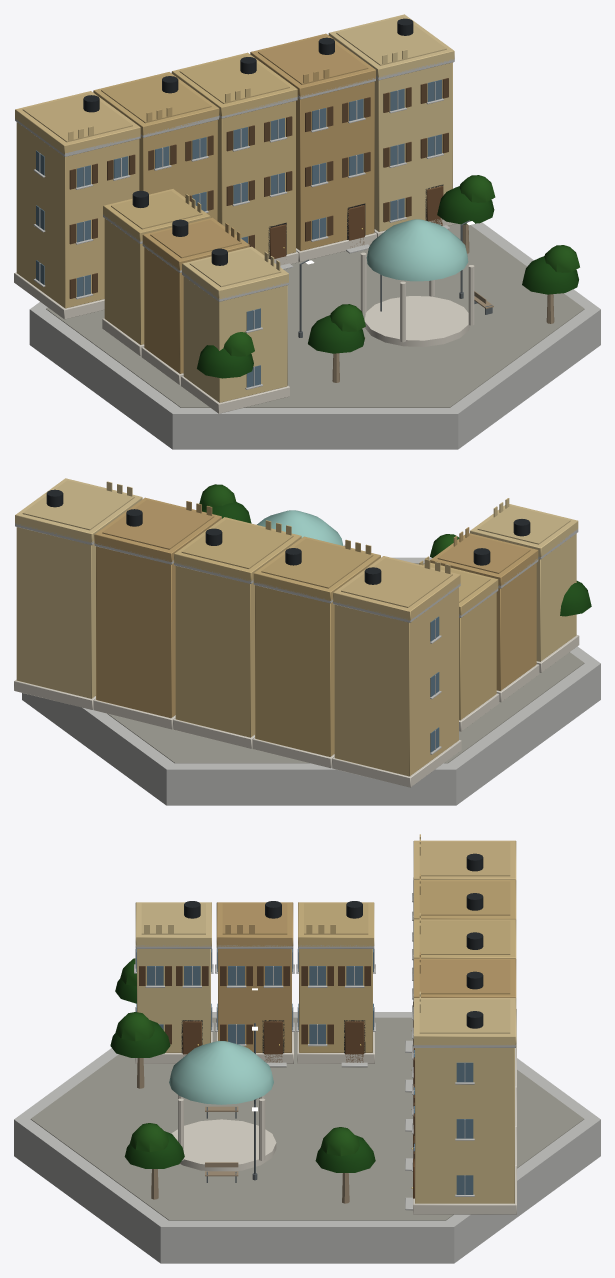
Rendered from residential_arab.glb.
The picture shows the model from 3 angles, top to bottom: view 1: azimuth 30°, elevation 25°; view 2: azimuth 150°, elevation 25°; view 3: azimuth 270°, elevation 25°; orthographic projection. The views are drawn at different scales.
Parts seen in each view (by area): view 1: plaster, wall_concrete, pavers, stone, leaf, wood, glass, copper, paint; view 2: plaster, wall_concrete, stone, pavers, leaf, paint, copper, glass; view 3: plaster, pavers, wall_concrete, stone, leaf, wood, copper, glass, paint.
Boxes of the visible parts, left/top/right/bottom form: plaster: left=15, top=14, right=454, bottom=402; wall_concrete: left=15, top=59, right=600, bottom=449; pavers: left=46, top=223, right=584, bottom=407; stone: left=14, top=218, right=474, bottom=413; leaf: left=197, top=175, right=579, bottom=378; wood: left=69, top=78, right=554, bottom=382; glass: left=36, top=79, right=441, bottom=387; copper: left=366, top=219, right=468, bottom=281; paint: left=83, top=18, right=413, bottom=265; plaster: left=15, top=478, right=578, bottom=776; wall_concrete: left=15, top=523, right=600, bottom=805; stone: left=14, top=544, right=579, bottom=787; pavers: left=107, top=563, right=584, bottom=763; leaf: left=199, top=484, right=591, bottom=616; paint: left=46, top=489, right=530, bottom=584; copper: left=257, top=510, right=343, bottom=545; glass: left=430, top=616, right=439, bottom=752; plaster: left=135, top=834, right=516, bottom=1203; pavers: left=30, top=1017, right=584, bottom=1220; wall_concrete: left=14, top=877, right=600, bottom=1263; stone: left=135, top=1009, right=516, bottom=1214; leaf: left=110, top=958, right=375, bottom=1172; wood: left=137, top=966, right=414, bottom=1203; copper: left=169, top=1041, right=273, bottom=1104; glass: left=136, top=949, right=473, bottom=1194; paint: left=184, top=853, right=483, bottom=1028.
Bounding box in the file's own units: 21.3 × 10.53 × 24.6.
